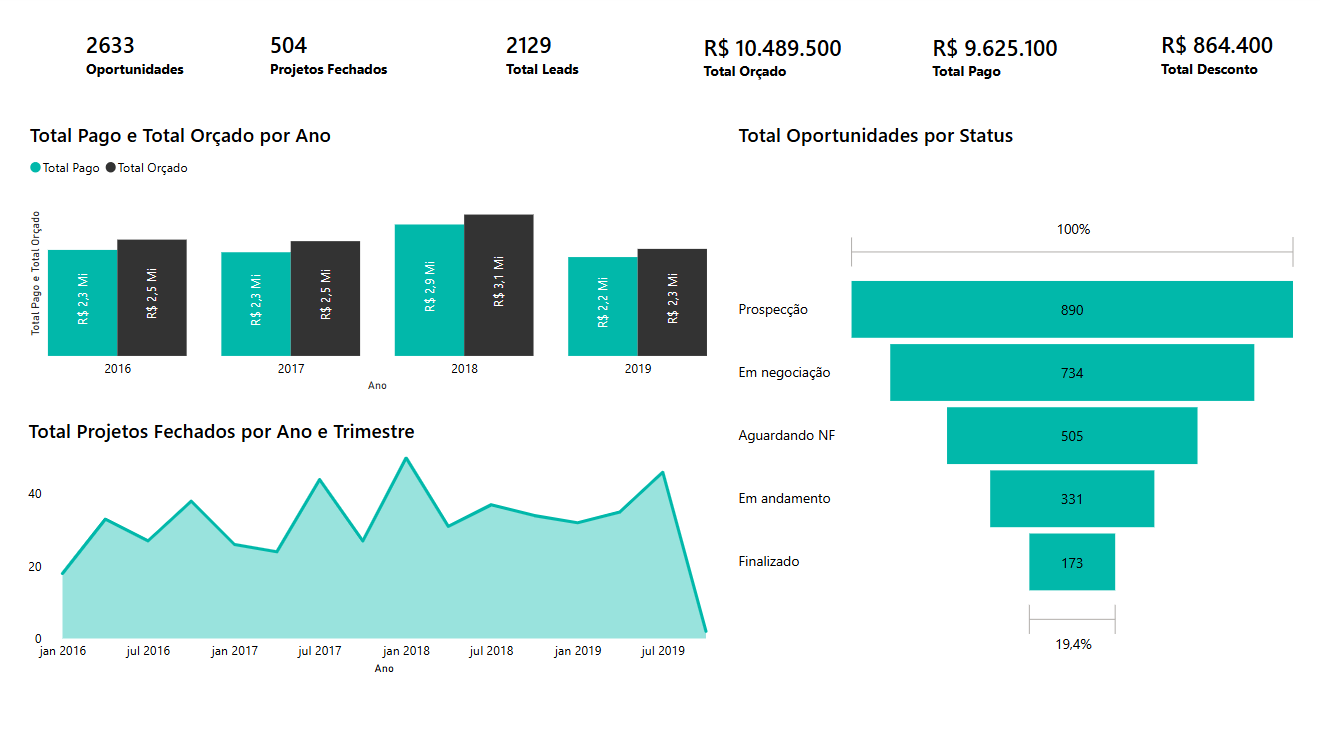

This screenshot's page, from the dashboard's own definition file:
{"tool":"powerbi","page":{"name":"Relatório Projetos","canvas":[1280,720],"ordinal":2},"visuals":[{"type":"multiRowCard","fields":{"Values":["Projetos.Total Leads"]},"box":[485.6,28.5,127.7,69],"z":0},{"type":"multiRowCard","fields":{"Values":["Projetos.Total Projetos Fechados"]},"box":[257.9,28.5,135.4,60.4],"z":1000},{"type":"multiRowCard","fields":{"Values":["Projetos.Total Oportunidades"]},"box":[81.1,28.5,125.9,60.4],"z":2000},{"type":"multiRowCard","fields":{"Values":["Projetos.Total Orçado"]},"box":[677.1,31.1,189.8,75.9],"z":3000},{"type":"multiRowCard","fields":{"Values":["Projetos.Total Pago"]},"box":[897.9,31.1,175.1,69.9],"z":4000},{"type":"multiRowCard","fields":{"Values":["Projetos.Total Desconto"]},"box":[1118.7,28.5,154.4,69.9],"z":5000},{"type":"areaChart","fields":{"Y":["Projetos.Total Projetos Fechados"],"Category":["Projetos.Data Início.Variation.Hierarquia de datas.Ano","Projetos.Data Início.Variation.Hierarquia de datas.Trimestre"]},"box":[25.1,409.6,685.4,253.1],"z":6000},{"type":"funnel","fields":{"Y":["Projetos.Total Oportunidades"],"Category":["Projetos.Status"]},"box":[710.4,123,550.4,581.5],"z":7000},{"type":"clusteredColumnChart","fields":{"Category":["Projetos.Data Início.Variation.Hierarquia de datas.Ano"],"Y":["Projetos.Total Pago","Projetos.Total Orçado"]},"box":[26.3,123,663.9,266.3],"z":8000}]}

Visuals, with their boxes in screenshot pixels (x1, y1, x2, y2), scaled from the page's 1280x720 canvas onto the 1320x737 screenshot:
multiRowCard - Projetos.Total Leads: 501,29,632,100
multiRowCard - Projetos.Total Projetos Fechados: 266,29,406,91
multiRowCard - Projetos.Total Oportunidades: 84,29,213,91
multiRowCard - Projetos.Total Orçado: 698,32,894,110
multiRowCard - Projetos.Total Pago: 926,32,1107,103
multiRowCard - Projetos.Total Desconto: 1154,29,1313,101
areaChart - Projetos.Total Projetos Fechados x Projetos.Data Início.Variation.Hierarquia de datas.Ano: 26,419,733,678
funnel - Projetos.Total Oportunidades x Projetos.Status: 733,126,1300,721
clusteredColumnChart - Projetos.Data Início.Variation.Hierarquia de datas.Ano x Projetos.Total Pago: 27,126,712,398
